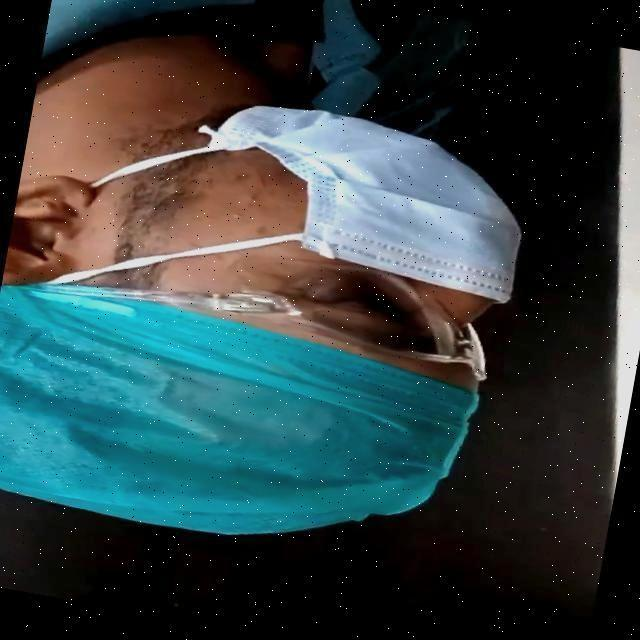gloves: (0, 339, 486, 521)
mask: (145, 96, 546, 292)
